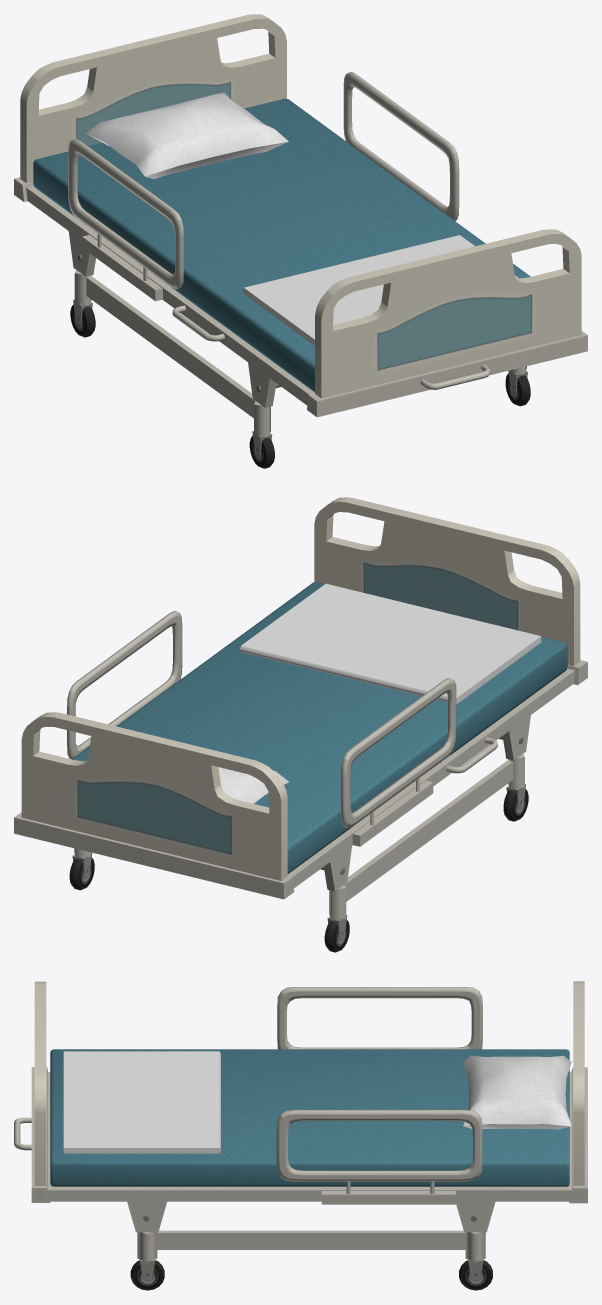
Rendered from patient bed.FBX.
3 views of the same model, one above another, from view 1: azimuth 30°, elevation 25°; view 2: azimuth 150°, elevation 25°; view 3: azimuth 270°, elevation 25° (orthographic). The views are drawn at different scales.
Parts seen in each view (by area): view 1: Bed, RightRail, LeftRail; view 2: Bed, RightRail, LeftRail; view 3: Bed, LeftRail, RightRail.
Boxes of the visible parts, x1=… form: Bed: x1=14, y1=14, x2=587, y2=468; RightRail: x1=68, y1=139, x2=183, y2=289; LeftRail: x1=343, y1=72, x2=459, y2=220; Bed: x1=14, y1=497, x2=587, y2=952; RightRail: x1=341, y1=678, x2=456, y2=827; LeftRail: x1=67, y1=611, x2=182, y2=759; Bed: x1=14, y1=981, x2=587, y2=1290; LeftRail: x1=276, y1=1109, x2=482, y2=1193; RightRail: x1=277, y1=987, x2=482, y2=1049.
Size of the model in its own units: 124 by 91.77 by 234.
